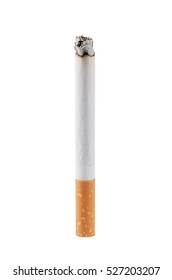cigarette: (69, 29, 100, 240)
